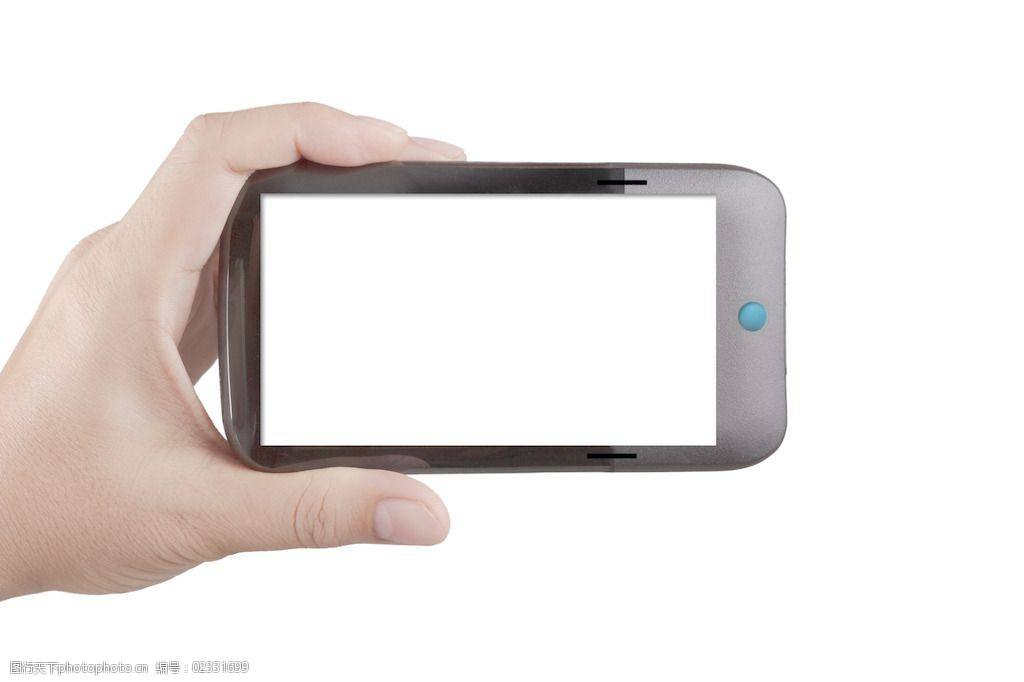phone: (3, 99, 790, 606)
